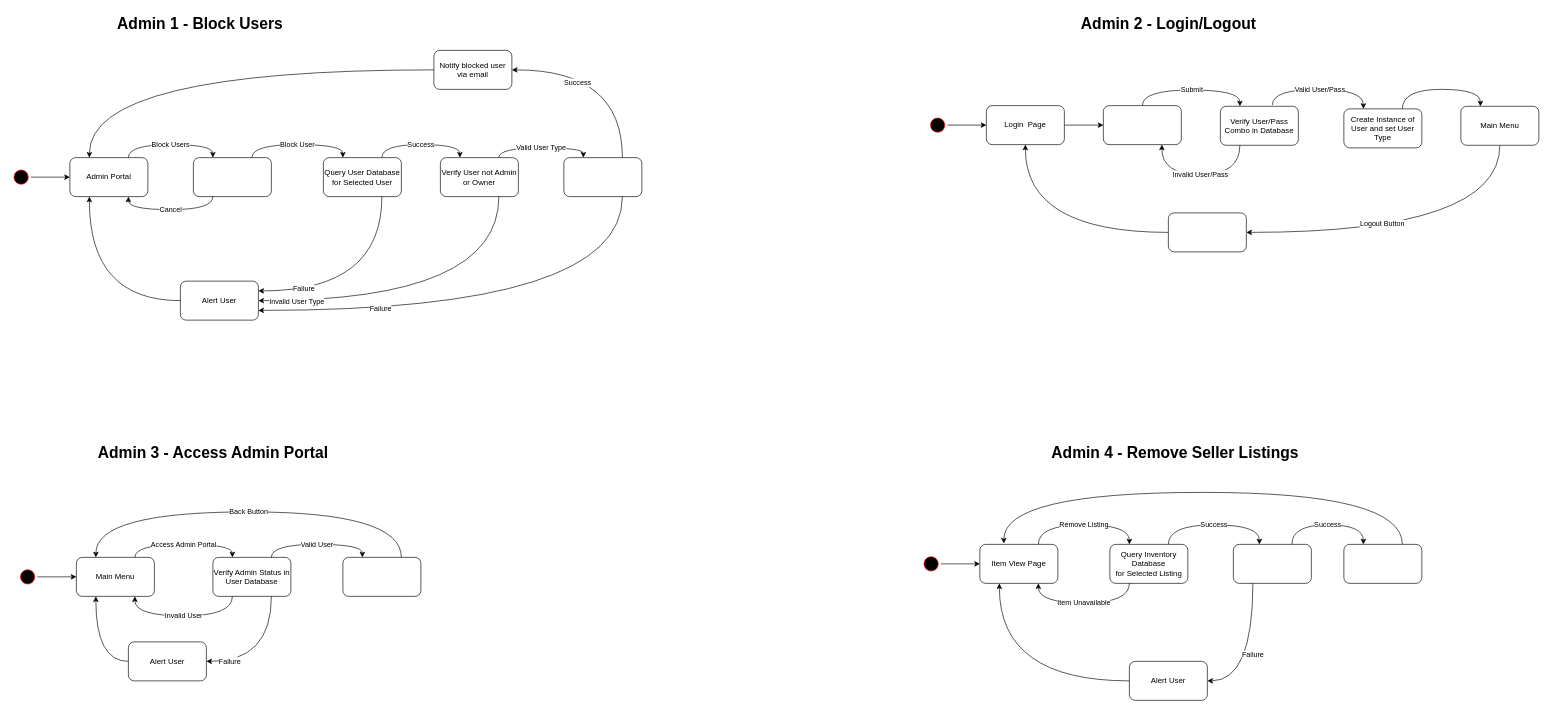
This 1550x712 diagram has some shape labels left out. Here are the shapes that lost their labels. From the top down, the box of each, then its label:
(1103, 105, 1181, 145): Input Username and Password
(193, 157, 271, 197): User View Page
(563, 157, 642, 197): Activate BLOCKED flag for Selected User
(1168, 212, 1246, 252): Clear User Class
(342, 557, 421, 596): Admin Portal Page
(1233, 544, 1311, 583): Remove Item from Inventory Database
(1343, 544, 1422, 583): Notify Seller
